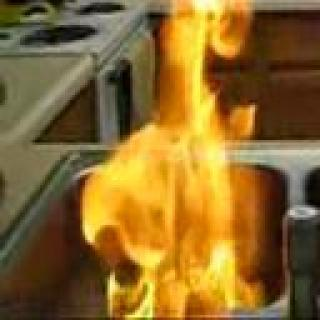fire: (75, 104, 265, 320), (149, 0, 253, 120)
